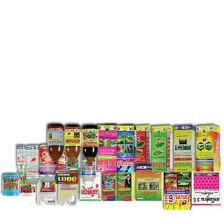insecticide: (160, 153, 193, 215), (189, 152, 221, 207), (133, 155, 166, 203), (193, 119, 222, 173), (92, 121, 121, 174), (145, 124, 176, 173), (170, 122, 197, 173), (130, 123, 155, 174), (77, 157, 101, 204), (113, 125, 135, 175), (53, 148, 81, 186), (114, 157, 137, 203), (44, 119, 66, 165), (37, 142, 57, 190), (56, 167, 80, 207), (79, 122, 100, 167), (34, 170, 58, 207), (100, 158, 119, 203), (24, 143, 42, 190), (65, 123, 81, 167), (79, 149, 97, 186), (16, 169, 38, 197), (0, 170, 21, 198), (62, 145, 80, 172), (14, 142, 27, 178)
